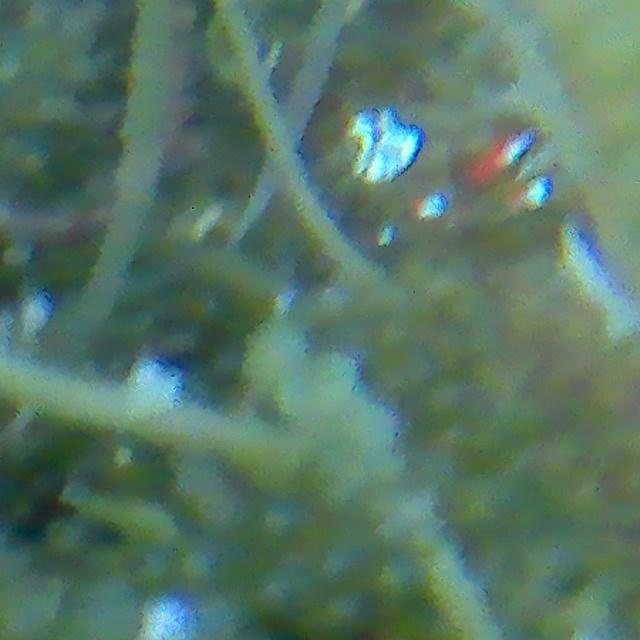SeaGrape: (243, 320, 311, 389), (343, 399, 401, 459), (254, 496, 309, 550)
